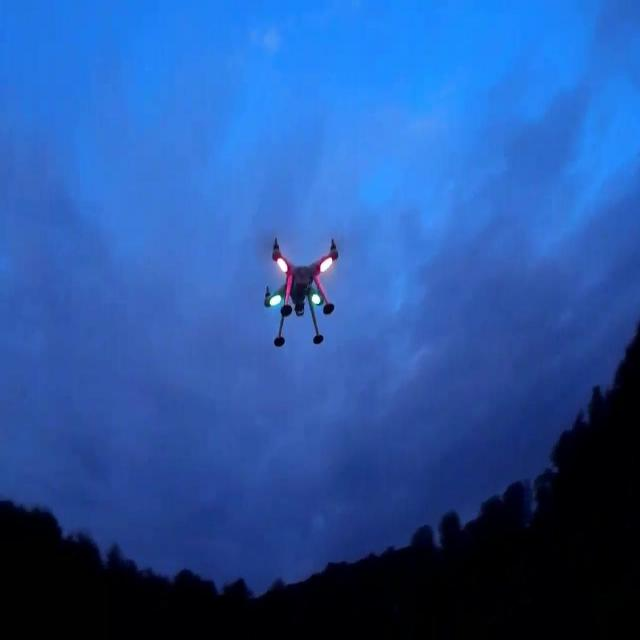UAV: (264, 237, 338, 347)
